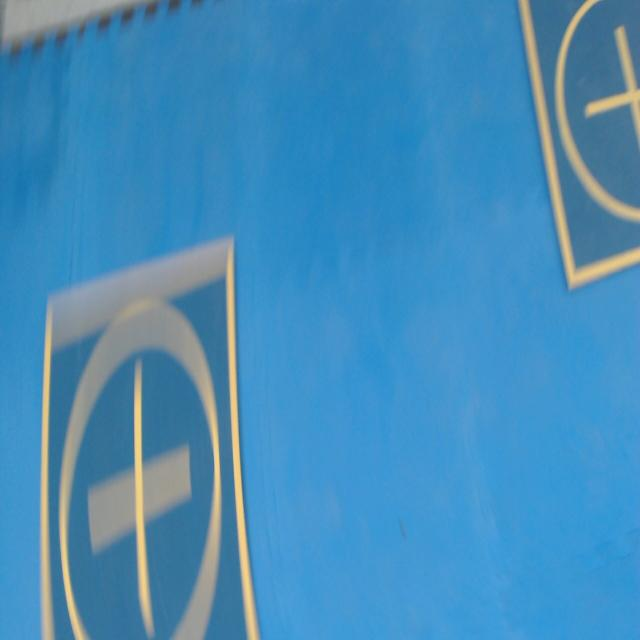base_pouso: (42, 236, 261, 639), (518, 0, 640, 295)
